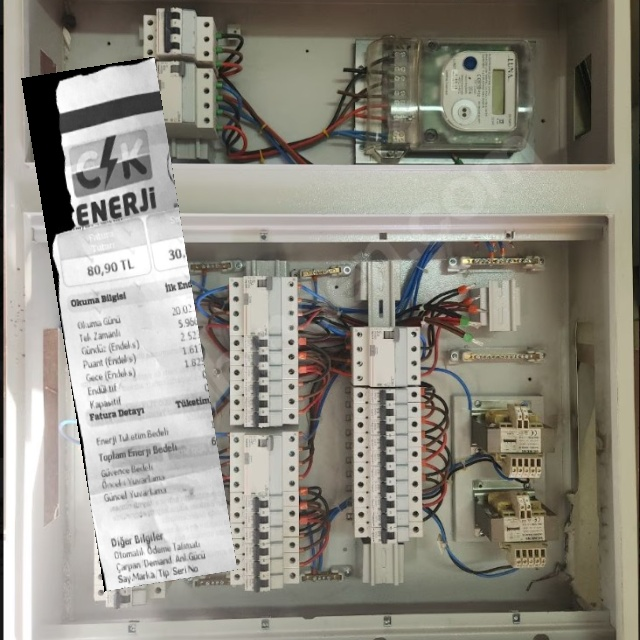electricity-bill: (21, 56, 238, 592)
